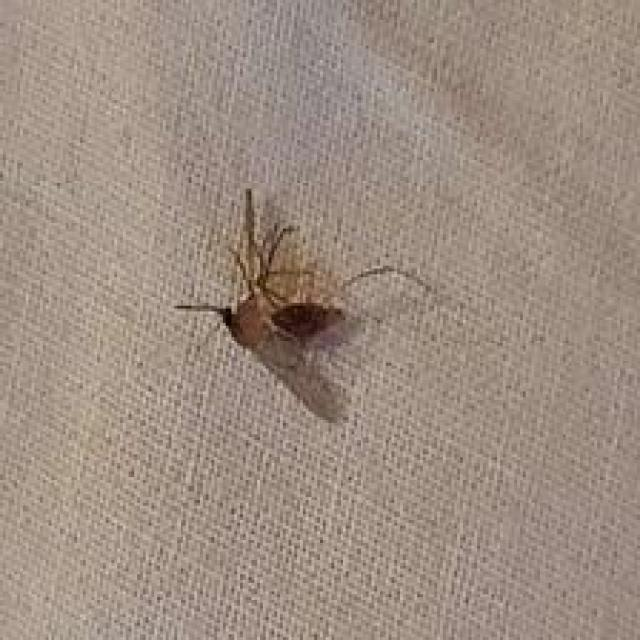Culex: (171, 184, 440, 427)
